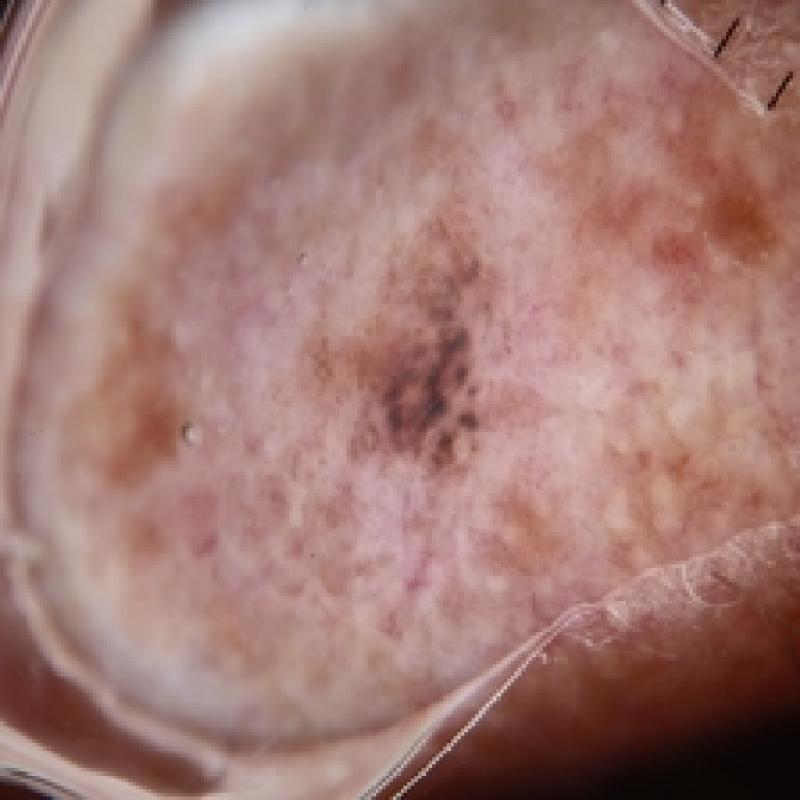benign: (281, 152, 569, 516)
